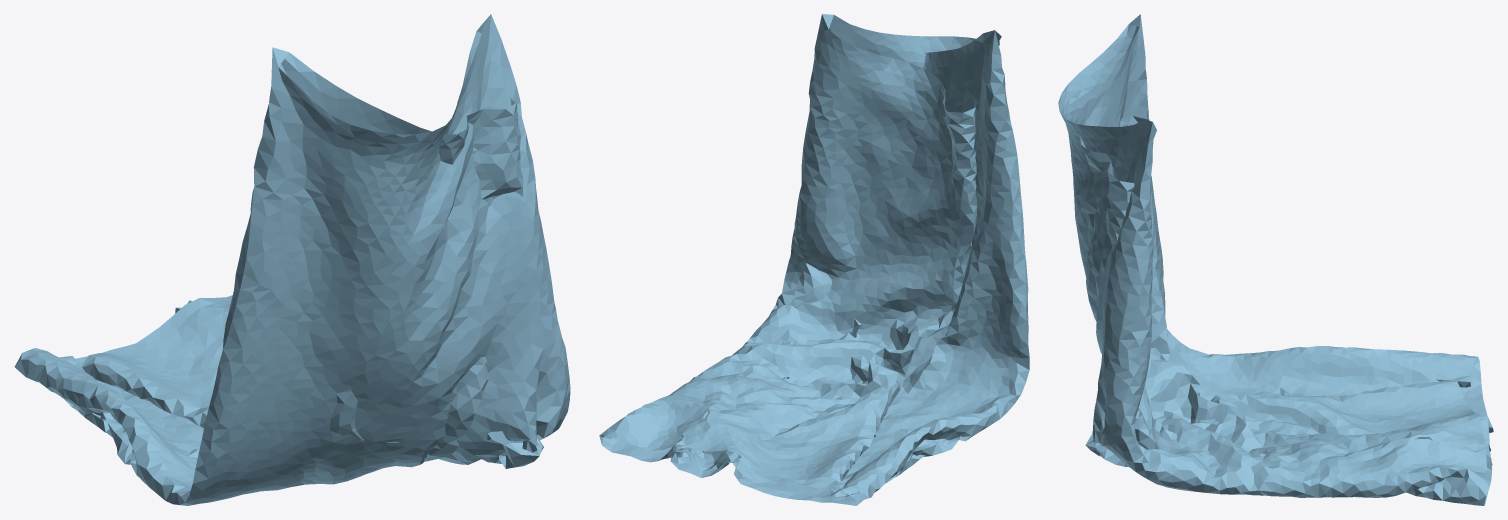
File: frame_10.glb
3 views of the same model, side by side, from view 1: azimuth 30°, elevation 25°; view 2: azimuth 150°, elevation 25°; view 3: azimuth 270°, elevation 25° (orthographic). The views are drawn at different scales.
Visible parts, largest first — view 1: frame_10.obj; view 2: frame_10.obj; view 3: frame_10.obj.
Boxes of the visible parts, x1,y1,x2,y2 form: frame_10.obj: (14,14,570,505); frame_10.obj: (599,14,1029,505); frame_10.obj: (1058,14,1493,505).
Bounding box in the file's own units: 0.891 × 1.1 × 1.14.
